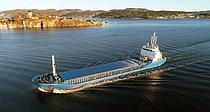Ship: (28, 31, 178, 98)
